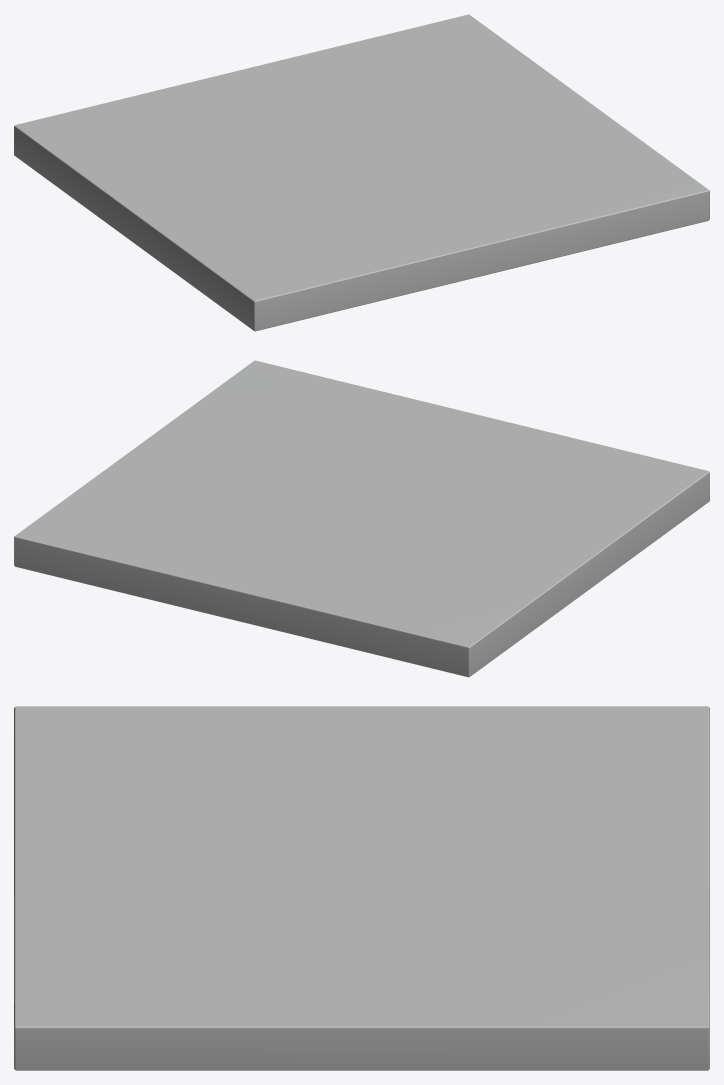
File: Town_9_Base_1.glb
3 views of the same model, one above another, from view 1: azimuth 30°, elevation 25°; view 2: azimuth 150°, elevation 25°; view 3: azimuth 270°, elevation 25° (orthographic). The views are drawn at different scales.
Parts seen in each view (by area): view 1: Town_9_Base_1; view 2: Town_9_Base_1; view 3: Town_9_Base_1.
Boxes of the visible parts, x1,y1,x2,y2 form: Town_9_Base_1: (14, 14, 709, 331); Town_9_Base_1: (14, 360, 709, 677); Town_9_Base_1: (14, 706, 709, 1070).
Bounding box in the file's own units: 17.62 × 1.15 × 16.12.
1 material, 1 textured.
